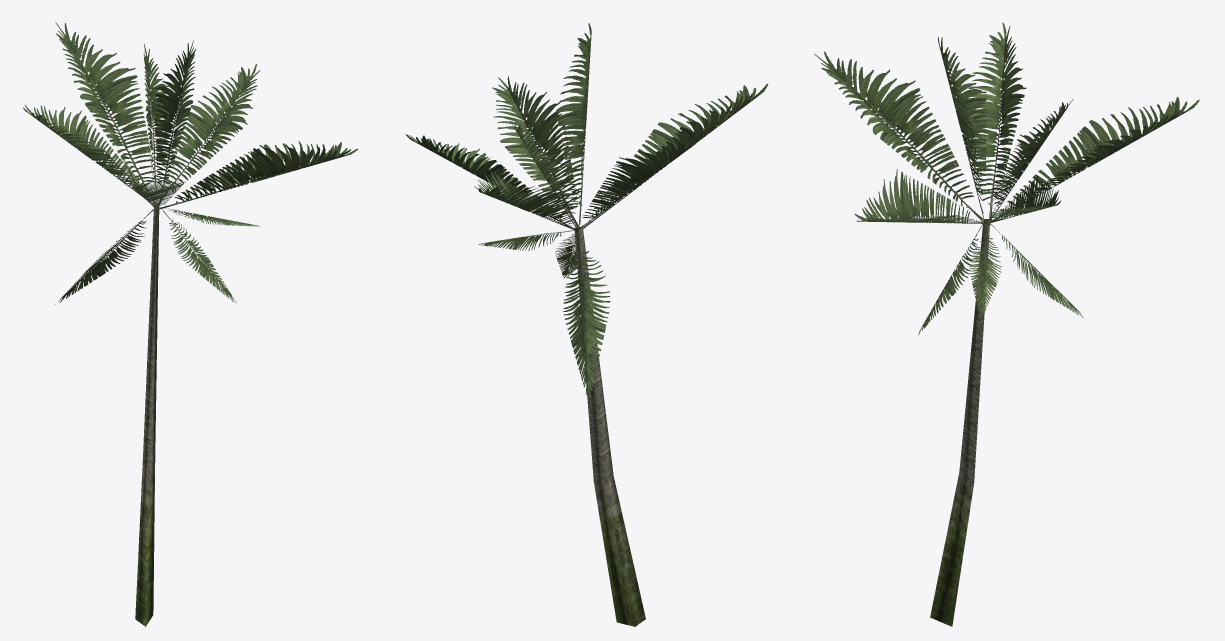
Rendered from ever_palmtree_sm_l2.fbx.
3 renders of one model, left to right at view 1: azimuth 30°, elevation 25°; view 2: azimuth 150°, elevation 25°; view 3: azimuth 270°, elevation 25°, orthographic. The views are drawn at different scales.
Parts seen in each view (by area): view 1: mesh_node; view 2: mesh_node; view 3: mesh_node.
Boxes of the visible parts, box(x1,y1,x2,y2) form: mesh_node: box(23, 22, 357, 626); mesh_node: box(405, 23, 768, 626); mesh_node: box(814, 22, 1199, 626).
Bounding box in the file's own units: 7.76 × 15.46 × 9.15.
Materials: 3 (3 with a texture image).
